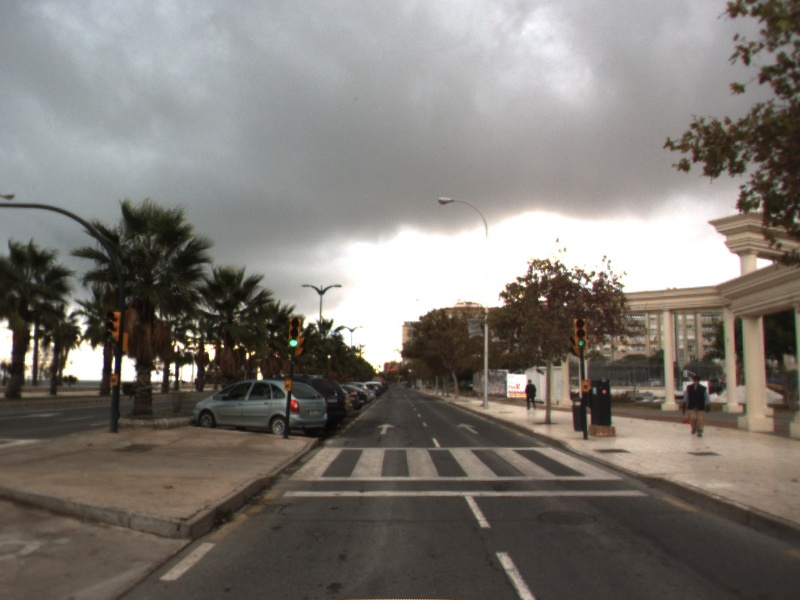STRAIGHT: (455, 421, 481, 435), (375, 422, 397, 435)
